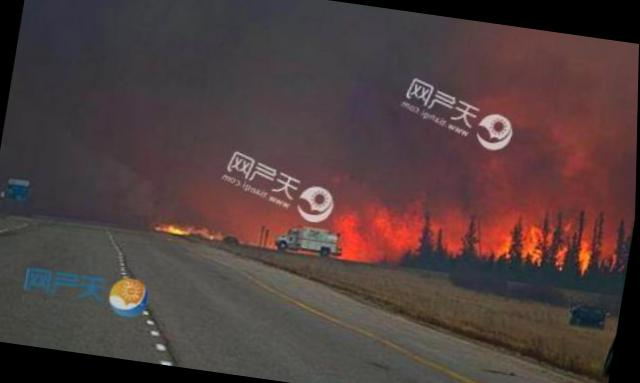fire: (497, 220, 598, 283), (153, 212, 197, 234)
